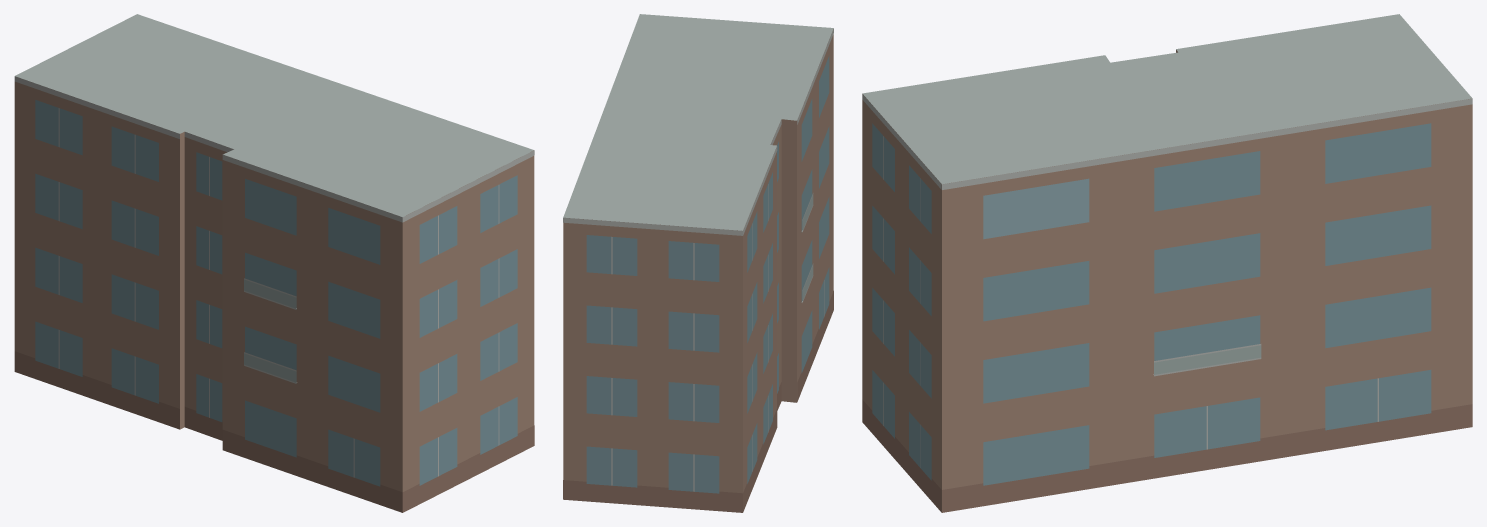
File: survey-upis-32849876.glb
3 renders of one model, left to right at view 1: azimuth 30°, elevation 25°; view 2: azimuth 150°, elevation 25°; view 3: azimuth 270°, elevation 25°, orthographic. The views are drawn at different scales.
Visible parts, largest first — view 1: survey-upis-32849876.tmp; view 2: survey-upis-32849876.tmp; view 3: survey-upis-32849876.tmp.
Part boxes in pixels (box(x1,y1,x2,y2)): survey-upis-32849876.tmp: box(14, 14, 534, 512); survey-upis-32849876.tmp: box(563, 14, 833, 512); survey-upis-32849876.tmp: box(862, 14, 1472, 512).
Size of the model in its own units: 14.99 by 13.48 by 22.7.
